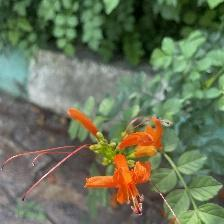honeysuckle: (85, 153, 160, 220)
